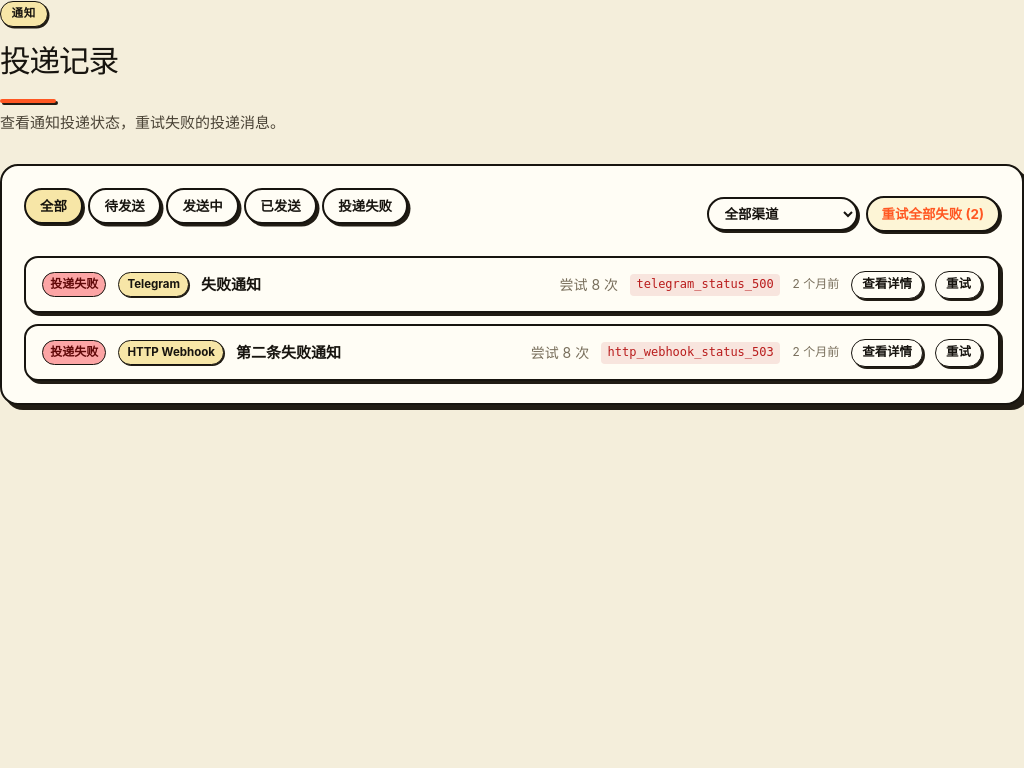
Test case: OutboxPage › 详情抽屉对已收录错误码展示中文排障提示
The width and height of the screenshot is (1024, 768).
Click the button with aria-label "查看投递详情：第二条失败通知". click: (887, 353)
box: left=851, top=339, right=923, bottom=367
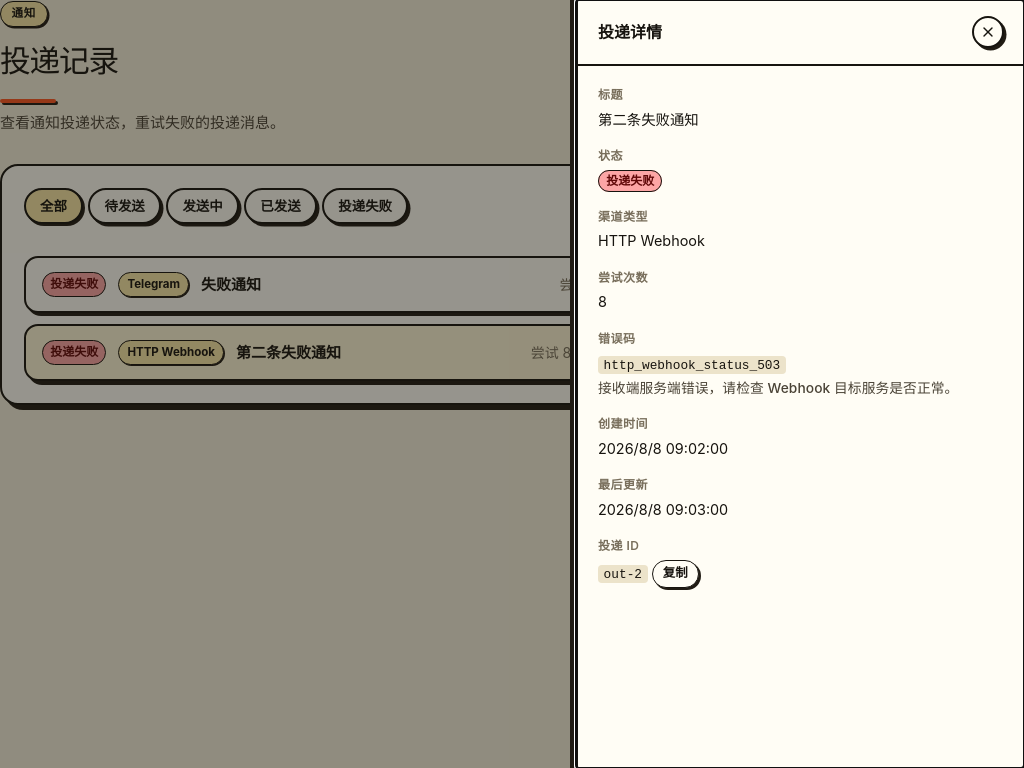
Expected: the text "http_webhook_status_503" is shown, left=598, top=356, right=786, bottom=374
Expected: the text "接收端服务端错误，请检查 Webhook 目标服务是否正常。" is shown, left=598, top=377, right=1004, bottom=399
